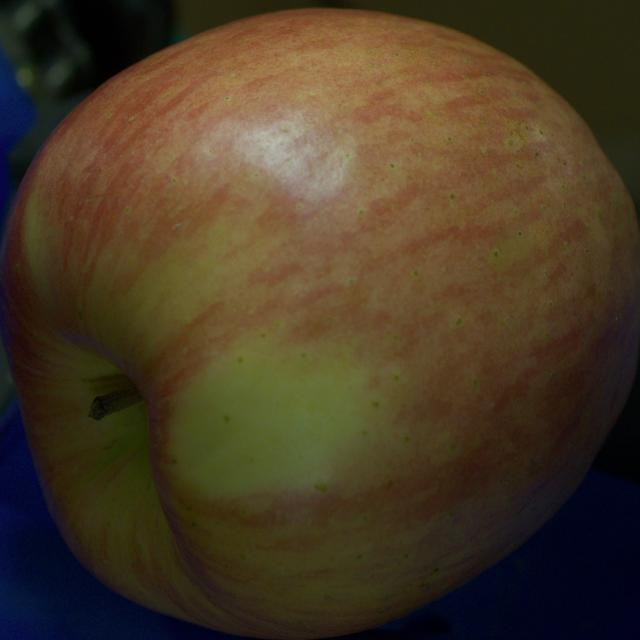apple: (0, 10, 639, 639)
